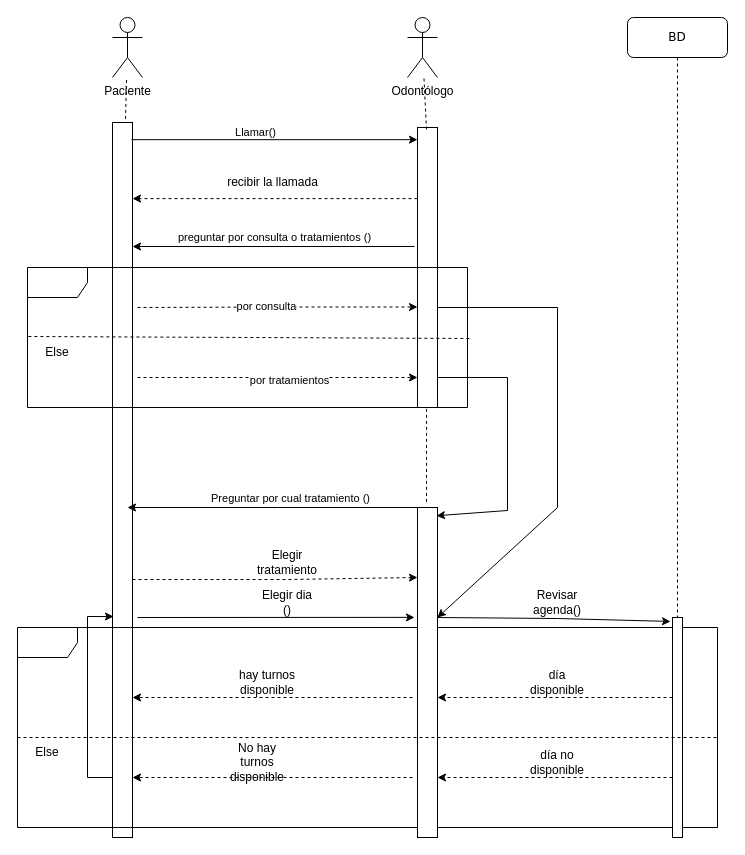
The diagram is 745 pixels wide and 855 high, and some of its shapes have lost their labels. The shapes that lost their labels are listed below. From the top down, each one's box as (x1, y1, x2, y2) in pixels, then its label:
(26, 266, 468, 408): if consulta
(16, 626, 718, 828): if disponible
